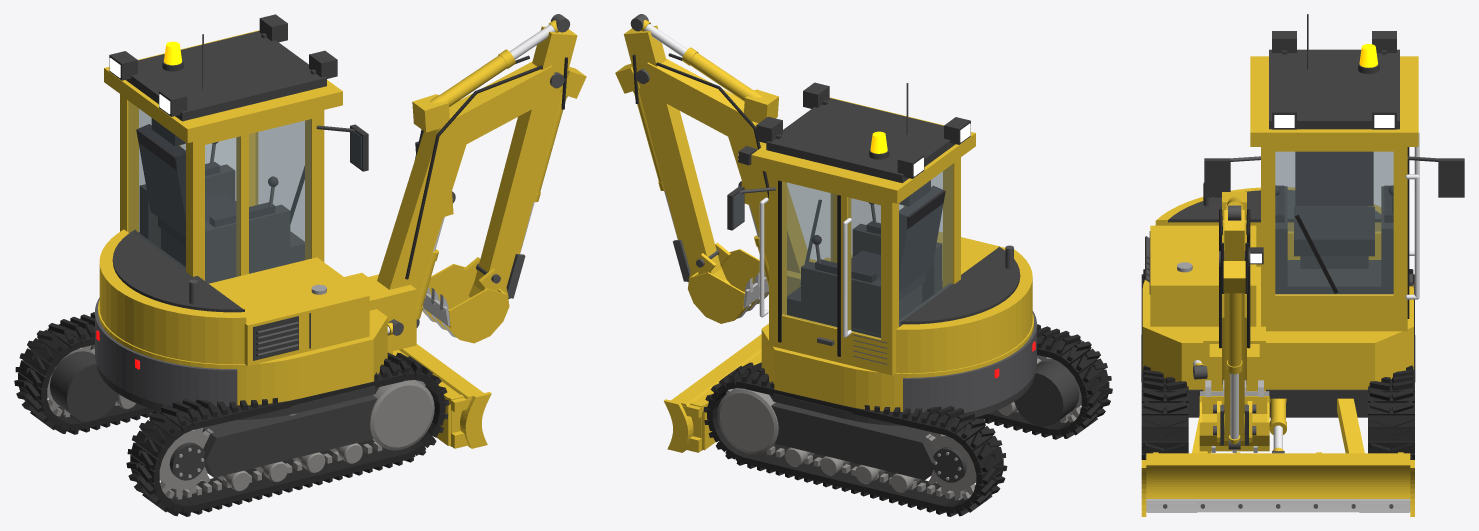
File: mini_excavator.glb
3 renders of one model, left to right at view 1: azimuth 30°, elevation 25°; view 2: azimuth 150°, elevation 25°; view 3: azimuth 270°, elevation 25°, orthographic. The views are drawn at different scales.
Visible parts, largest first — view 1: cab, upper_rotate, track_right, boom_tilt, arm_tilt, undercarriage_right, track_left, bucket_tilt, idler_right_spin, blade_tilt, undercarriage_left, sprocket_right_spin (+3 smaller); view 2: cab, upper_rotate, track_left, boom_tilt, arm_tilt, undercarriage_left, track_right, bucket_tilt, blade_tilt, idler_left_spin, undercarriage_right, sprocket_left_spin (+2 smaller); view 3: cab, upper_rotate, blade_tilt, track_right, track_left, arm_tilt, bucket_tilt, boom_tilt, undercarriage, bucket_cylinder_rotate, swing_post_rotate, bucket_cylinder_rod_slide (+1 smaller).
Boxes of the visible parts, x1=… form: cab: x1=104, y1=14, x2=368, y2=283; upper_rotate: x1=95, y1=229, x2=392, y2=419; track_right: x1=126, y1=352, x2=449, y2=516; boom_tilt: x1=377, y1=55, x2=564, y2=302; arm_tilt: x1=473, y1=26, x2=586, y2=290; undercarriage_right: x1=141, y1=395, x2=377, y2=477; track_left: x1=14, y1=312, x2=159, y2=434; bucket_tilt: x1=422, y1=257, x2=509, y2=343; idler_right_spin: x1=369, y1=380, x2=434, y2=450; blade_tilt: x1=393, y1=344, x2=491, y2=448; undercarriage_left: x1=50, y1=344, x2=118, y2=421; sprocket_right_spin: x1=159, y1=427, x2=213, y2=496; cab: x1=727, y1=82, x2=975, y2=375; upper_rotate: x1=761, y1=232, x2=1036, y2=425; track_left: x1=703, y1=362, x2=1007, y2=516; boom_tilt: x1=636, y1=53, x2=810, y2=273; arm_tilt: x1=615, y1=25, x2=721, y2=274; undercarriage_left: x1=771, y1=402, x2=992, y2=480; track_right: x1=976, y1=324, x2=1112, y2=439; bucket_tilt: x1=688, y1=242, x2=768, y2=323; blade_tilt: x1=664, y1=334, x2=761, y2=452; idler_left_spin: x1=717, y1=388, x2=778, y2=454; undercarriage_right: x1=1014, y1=355, x2=1079, y2=426; sprocket_left_spin: x1=925, y1=433, x2=976, y2=498; cab: x1=1204, y1=14, x2=1464, y2=331; upper_rotate: x1=1141, y1=182, x2=1415, y2=398; blade_tilt: x1=1141, y1=398, x2=1414, y2=516; track_right: x1=1141, y1=269, x2=1188, y2=459; track_left: x1=1368, y1=269, x2=1414, y2=459; arm_tilt: x1=1220, y1=210, x2=1248, y2=440; bucket_tilt: x1=1199, y1=380, x2=1269, y2=452; boom_tilt: x1=1219, y1=192, x2=1263, y2=384; undercarriage: x1=1188, y1=398, x2=1367, y2=417; bucket_cylinder_rotate: x1=1226, y1=293, x2=1242, y2=374; swing_post_rotate: x1=1209, y1=344, x2=1259, y2=391; bucket_cylinder_rod_slide: x1=1228, y1=373, x2=1240, y2=449.
Size of the model in its own units: 3.57 by 2.85 by 2.07.
17 materials, 17 textured.
